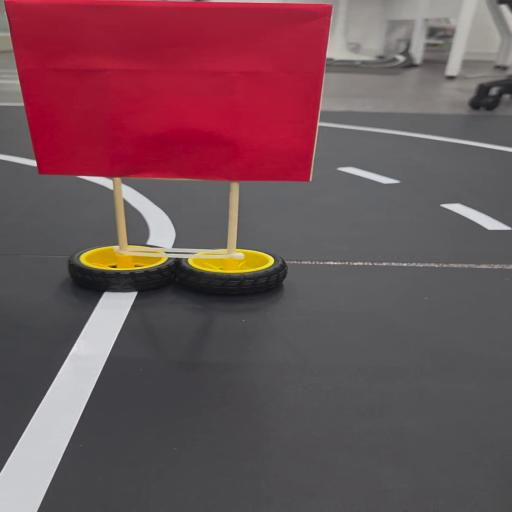Sign_A: (1, 0, 352, 317)
